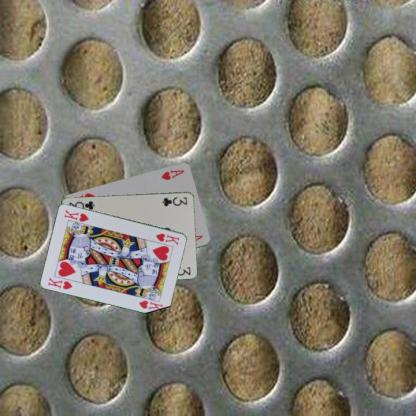3c: (160, 194, 188, 208)
Ah: (158, 167, 186, 181)
Kh: (46, 274, 74, 290), (153, 231, 181, 246)
